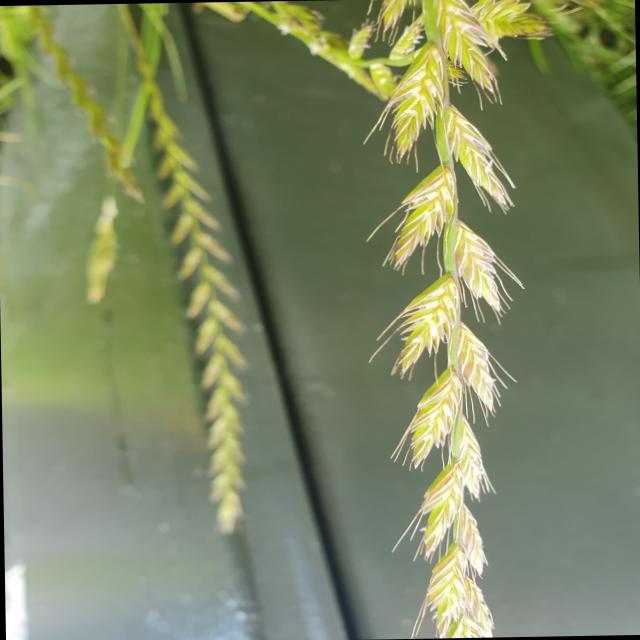Lolium: (351, 0, 568, 638), (90, 1, 250, 536)
